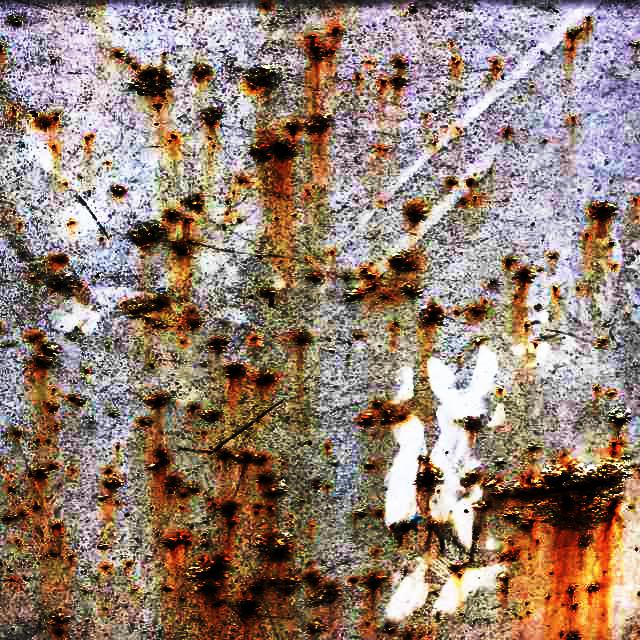Corrosion: (479, 453, 637, 530), (191, 556, 227, 597), (166, 210, 194, 256), (359, 401, 408, 426), (304, 574, 338, 606), (130, 69, 170, 96), (123, 294, 168, 316), (250, 577, 301, 596), (256, 535, 292, 560), (1, 504, 41, 524), (98, 470, 123, 502), (251, 142, 294, 160), (131, 223, 164, 246), (165, 477, 199, 498), (218, 450, 267, 464), (258, 475, 287, 498), (48, 273, 82, 291), (247, 66, 274, 88), (33, 344, 57, 368), (390, 252, 417, 272), (506, 512, 536, 530), (312, 35, 335, 58), (30, 110, 59, 128), (163, 534, 191, 552), (304, 113, 330, 132), (423, 304, 445, 325), (50, 614, 69, 638), (592, 202, 618, 218), (610, 408, 633, 426), (379, 74, 408, 88), (148, 450, 168, 470), (202, 106, 222, 126), (222, 504, 237, 528), (182, 195, 203, 212), (362, 266, 378, 288), (366, 576, 387, 592), (239, 601, 256, 620), (568, 27, 582, 50), (516, 268, 536, 284), (594, 385, 618, 398), (418, 471, 436, 488), (346, 288, 366, 302), (402, 284, 422, 298), (256, 372, 276, 386), (225, 365, 245, 379), (261, 289, 276, 307), (147, 394, 166, 408), (209, 338, 228, 352), (407, 207, 424, 222), (66, 395, 85, 408), (294, 332, 311, 346), (193, 64, 210, 78), (501, 550, 520, 562), (464, 473, 479, 488), (467, 418, 482, 432), (28, 469, 47, 480), (450, 565, 466, 578), (110, 184, 127, 196), (308, 624, 326, 635), (254, 505, 272, 516), (403, 632, 426, 640), (287, 121, 301, 134), (44, 402, 59, 414), (474, 502, 492, 512), (202, 412, 220, 422), (472, 305, 488, 316), (612, 441, 625, 454), (447, 177, 462, 188), (502, 576, 510, 594), (384, 625, 397, 636), (492, 58, 502, 72), (137, 418, 152, 427), (564, 633, 583, 640), (588, 585, 602, 594), (306, 273, 320, 282), (354, 509, 368, 518), (598, 337, 609, 348), (53, 256, 68, 264), (506, 258, 517, 268), (400, 524, 411, 534), (428, 521, 440, 530), (465, 178, 478, 186), (51, 524, 61, 534), (260, 0, 272, 8), (324, 444, 333, 454), (529, 445, 541, 452), (249, 336, 261, 343), (497, 458, 507, 466), (453, 56, 462, 64), (553, 285, 561, 294), (190, 321, 200, 328), (237, 177, 246, 184), (190, 405, 199, 412), (570, 587, 578, 594), (170, 132, 177, 140), (365, 464, 374, 470), (12, 432, 20, 438), (162, 589, 170, 594), (610, 242, 616, 247), (525, 324, 530, 328)
